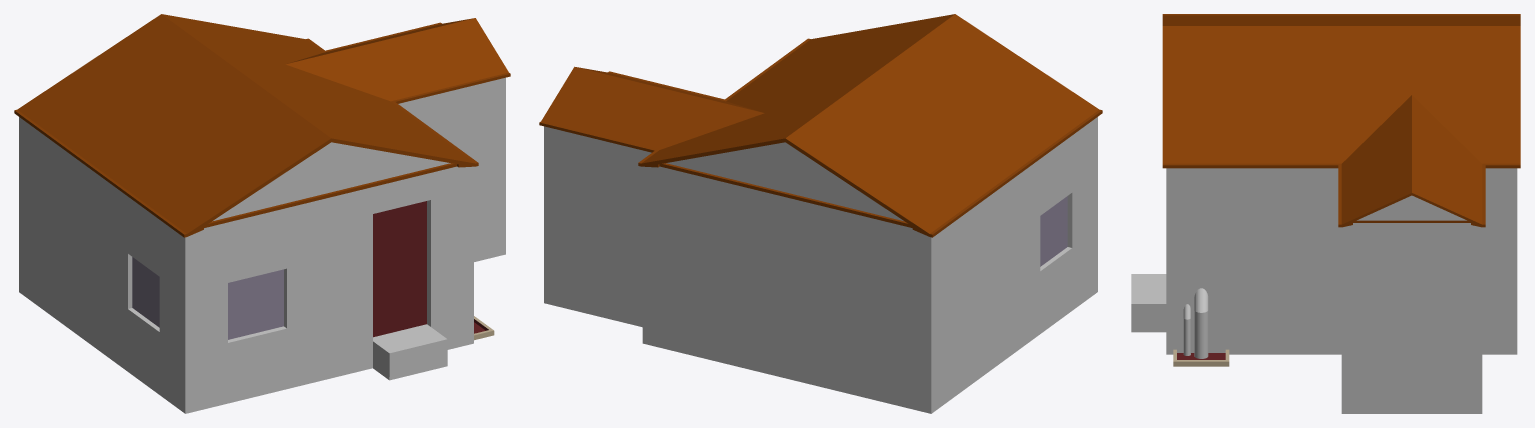
Rendered from House4.fbx.
3 views of the same model, side by side, from view 1: azimuth 30°, elevation 25°; view 2: azimuth 150°, elevation 25°; view 3: azimuth 270°, elevation 25° (orthographic). The views are drawn at different scales.
Parts seen in each view (by area): view 1: Cube.024, Cube.022; view 2: Cube.024, Cube.022; view 3: Cube.024, Cube.022, Cylinder.027, Cube.023, Cylinder.026.
Part boxes in pixels (left/top/right/bottom): Cube.024: left=14, top=14, right=478, bottom=413; Cube.022: left=286, top=18, right=510, bottom=261; Cube.024: left=638, top=14, right=1102, bottom=413; Cube.022: left=539, top=66, right=764, bottom=327; Cube.024: left=1131, top=14, right=1520, bottom=354; Cube.022: left=1338, top=95, right=1485, bottom=413; Cylinder.027: left=1194, top=288, right=1208, bottom=358; Cube.023: left=1173, top=349, right=1229, bottom=366; Cylinder.026: left=1183, top=304, right=1190, bottom=355.
Bounding box in the file's own units: 1420 × 800 × 1110.
